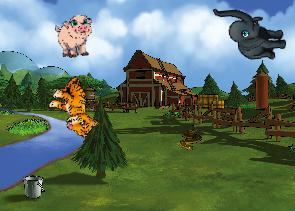elephant: (213, 2, 287, 63)
pig: (54, 14, 96, 59)
tiger: (41, 72, 111, 141)
